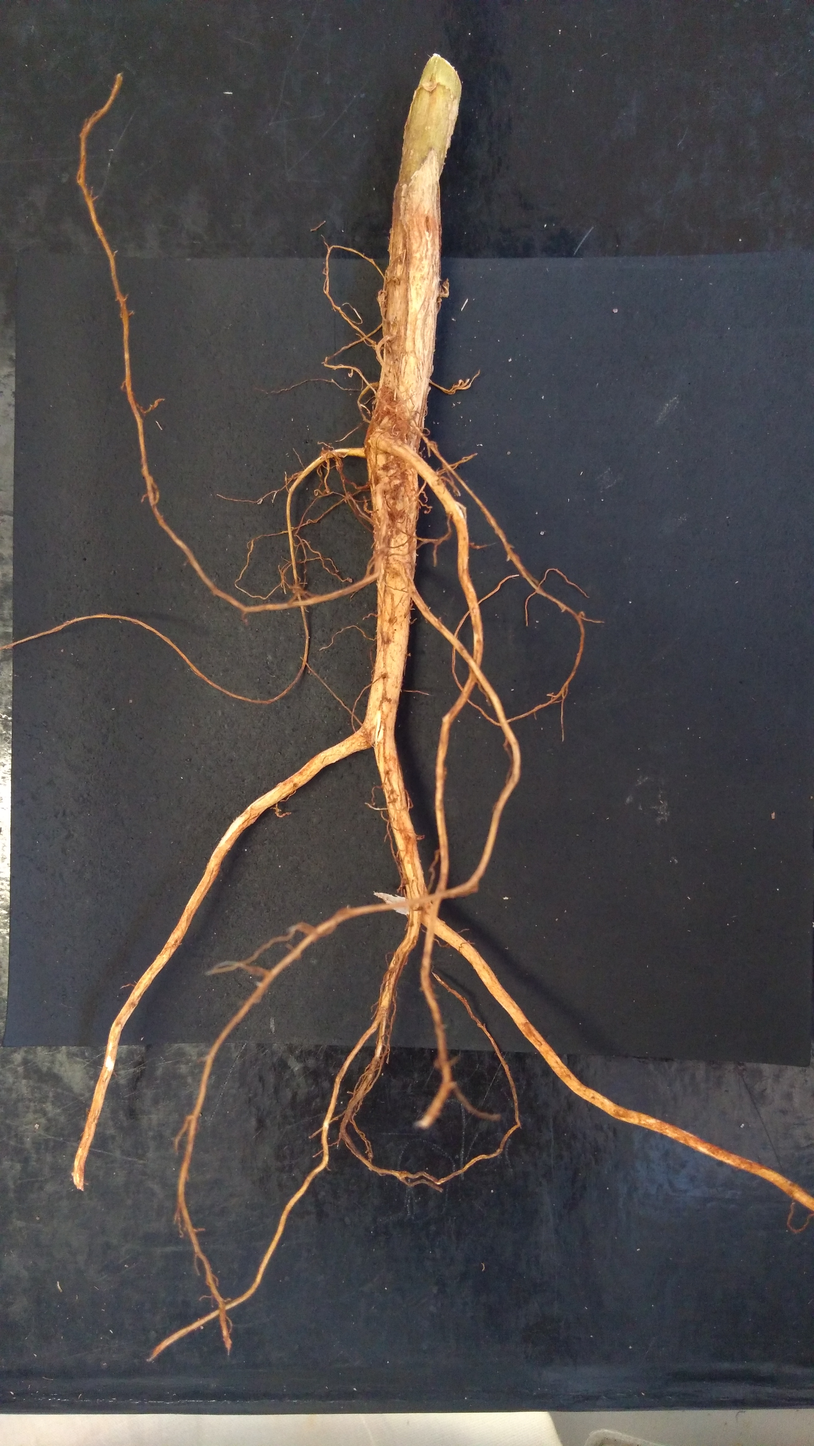nodule: (376, 468, 402, 491), (378, 413, 396, 431), (376, 291, 388, 312), (345, 490, 353, 500), (346, 577, 352, 583), (437, 296, 442, 303), (424, 510, 428, 514), (409, 652, 411, 657)
